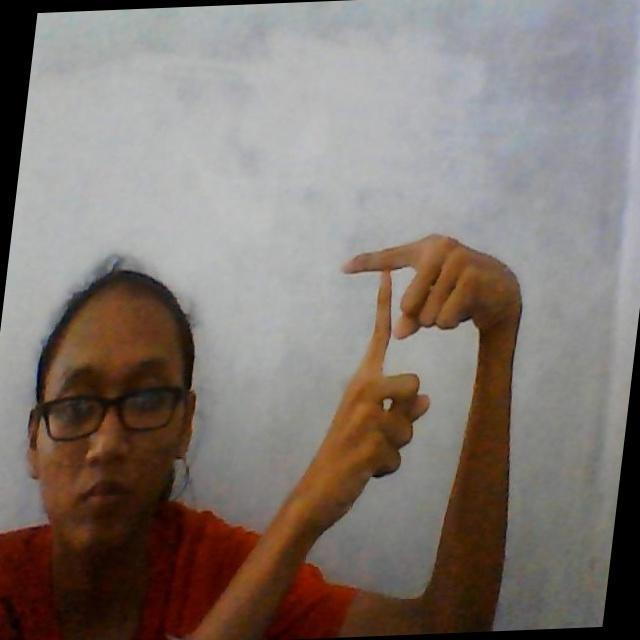T: (328, 226, 466, 475)
